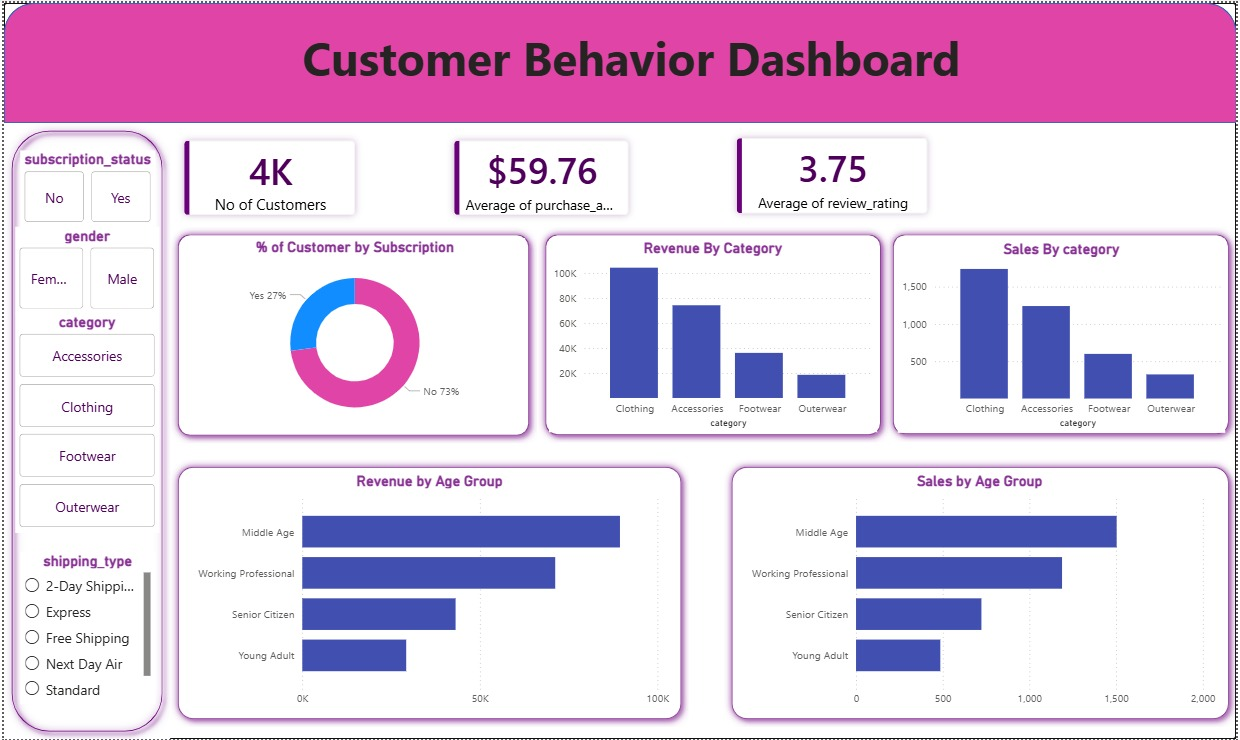

What the dashboard file says about the page in this screenshot:
{"tool":"powerbi","page":{"name":"Page 1","canvas":[1430,854],"ordinal":0},"visuals":[{"type":"cardVisual","fields":{"Data":["Avg(public customer.purchase_amount)"]},"box":[494.6,132,258.2,142.1],"z":0},{"type":"cardVisual","fields":{"Data":["Avg(public customer.review_rating)"]},"box":[822.4,129.1,277,143.6],"z":1000},{"type":"cardVisual","fields":{"Data":["public customer.No of Customers"]},"box":[180.7,131.8,254.1,142.7],"z":2000},{"type":"shape","box":[0,0,1430.1,139.2],"z":3000},{"type":"textbox","box":[175.5,21.8,1105.2,104.4],"z":4000},{"type":"shape","box":[193.3,259.5,425.3,251.4],"z":5000},{"type":"donutChart","title":"% of Customer by Subscription","fields":{"Category":["public customer.subscription_status"],"Y":["CountNonNull(public customer.customer_id)"]},"box":[209.7,273.1,394,224.2],"z":6000},{"type":"shape","box":[618.8,259.5,407.2,250.7],"z":7000},{"type":"shape","box":[192.9,529.4,601.9,310.4],"z":8000},{"type":"clusteredColumnChart","title":"Revenue By Category","fields":{"Category":["public customer.category"],"Y":["Sum(public customer.purchase_amount)"]},"box":[631.8,274.5,380.4,224.2],"z":9000},{"type":"shape","box":[1022.5,259.6,407.6,249.5],"z":10000},{"type":"clusteredColumnChart","title":"Sales By category","fields":{"Category":["public customer.category"],"Y":["CountNonNull(public customer.customer_id)"]},"box":[1037,275.6,380,223.4],"z":11000},{"type":"shape","box":[0,139.2,192.9,715.1],"z":12000},{"type":"advancedSlicerVisual","fields":{"Values":["public customer.subscription_status"]},"box":[18.9,171.1,156.6,88.5],"z":13000},{"type":"advancedSlicerVisual","fields":{"Values":["public customer.gender"]},"box":[13.6,259.5,167.1,100.5],"z":14000},{"type":"advancedSlicerVisual","fields":{"Values":["public customer.category"]},"box":[13.6,360.1,167.1,255.4],"z":15000},{"type":"listSlicer","fields":{"Values":["public customer.shipping_type"]},"box":[18.9,636.7,156.6,177],"z":16000},{"type":"clusteredBarChart","title":"Revenue by Age Group","fields":{"Category":["public customer.Age Group"],"Y":["Sum(public customer.purchase_amount)"]},"box":[210.3,543.9,567.1,281.4],"z":17000},{"type":"shape","box":[835.4,529.4,594.7,310.4],"z":18000},{"type":"clusteredBarChart","title":"Sales by Age Group","fields":{"Category":["public customer.Age Group"],"Y":["CountNonNull(public customer.customer_id)"]},"box":[852.8,543.9,558.4,281.4],"z":19000}]}

Visuals, with their boxes in screenshot pixels (x1, y1, x2, y2), scaled from the page's 1430x854 canvas onto the 1240x740 screenshot:
cardVisual - Avg(public customer.purchase_amount): (x1=429, y1=114, x2=653, y2=238)
cardVisual - Avg(public customer.review_rating): (x1=713, y1=112, x2=953, y2=236)
cardVisual - public customer.No of Customers: (x1=157, y1=114, x2=377, y2=238)
shape: (x1=0, y1=0, x2=1239, y2=121)
textbox: (x1=152, y1=19, x2=1111, y2=109)
shape: (x1=168, y1=225, x2=536, y2=443)
"% of Customer by Subscription" donutChart: (x1=182, y1=237, x2=523, y2=431)
shape: (x1=537, y1=225, x2=890, y2=442)
shape: (x1=167, y1=459, x2=689, y2=728)
"Revenue By Category" clusteredColumnChart: (x1=548, y1=238, x2=878, y2=432)
shape: (x1=887, y1=225, x2=1239, y2=441)
"Sales By category" clusteredColumnChart: (x1=899, y1=239, x2=1229, y2=432)
shape: (x1=0, y1=121, x2=167, y2=739)
advancedSlicerVisual - public customer.subscription_status: (x1=16, y1=148, x2=152, y2=225)
advancedSlicerVisual - public customer.gender: (x1=12, y1=225, x2=157, y2=312)
advancedSlicerVisual - public customer.category: (x1=12, y1=312, x2=157, y2=533)
listSlicer - public customer.shipping_type: (x1=16, y1=552, x2=152, y2=705)
"Revenue by Age Group" clusteredBarChart: (x1=182, y1=471, x2=674, y2=715)
shape: (x1=724, y1=459, x2=1239, y2=728)
"Sales by Age Group" clusteredBarChart: (x1=739, y1=471, x2=1224, y2=715)
